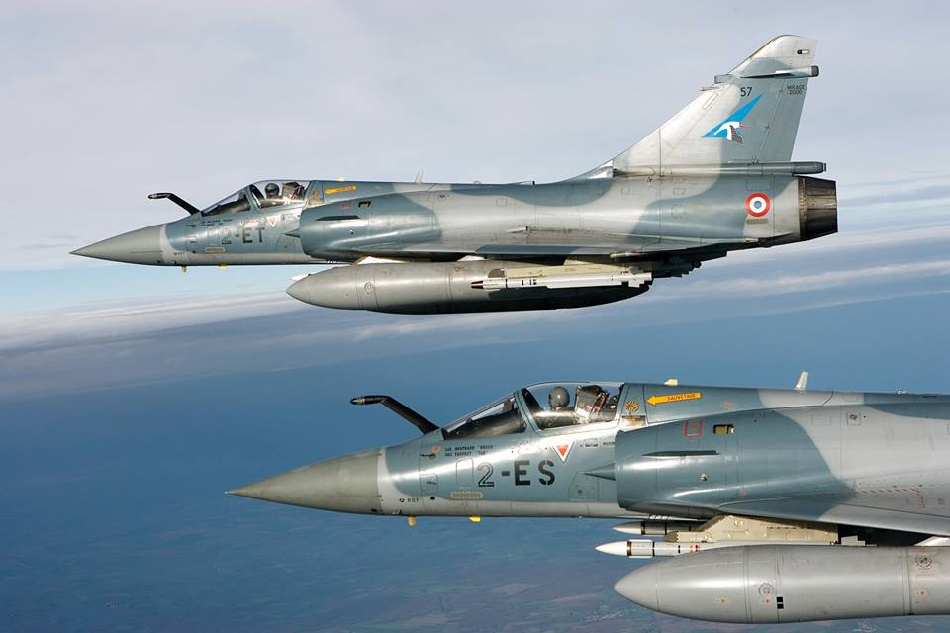airplane: (64, 34, 855, 318), (203, 374, 950, 622)
